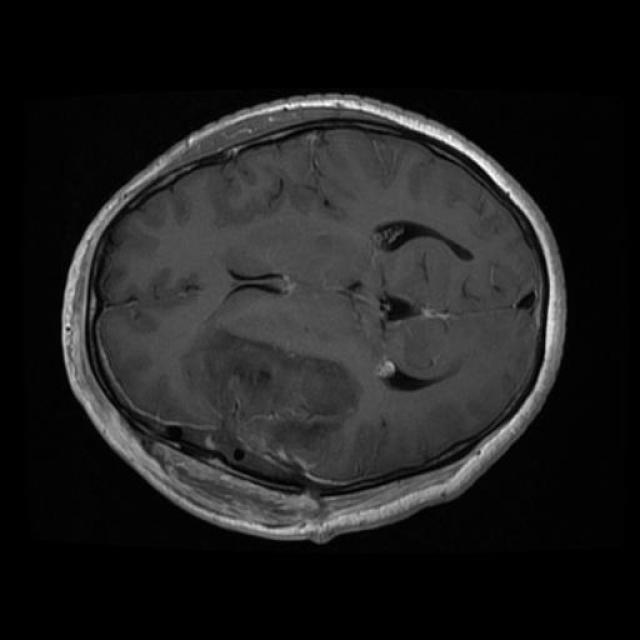Glioma: (172, 329, 361, 486)
